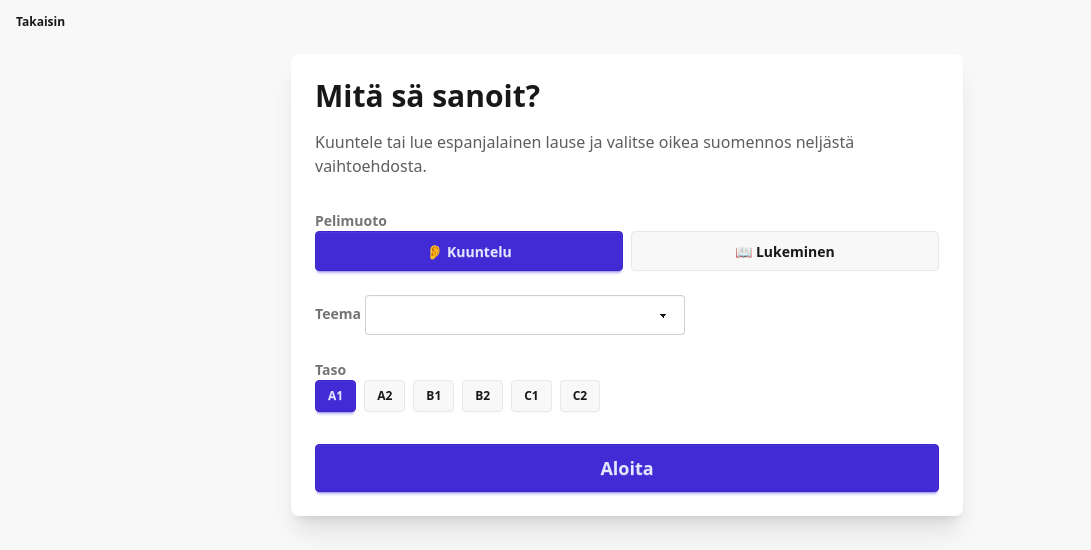
Scenario: Mitä sä sanoit Page › renders playing state with sentence display and answer options
The image size is (1091, 550).
// Click start button
Click the button "Aloita" at [627, 468], box [315,444,939,492]
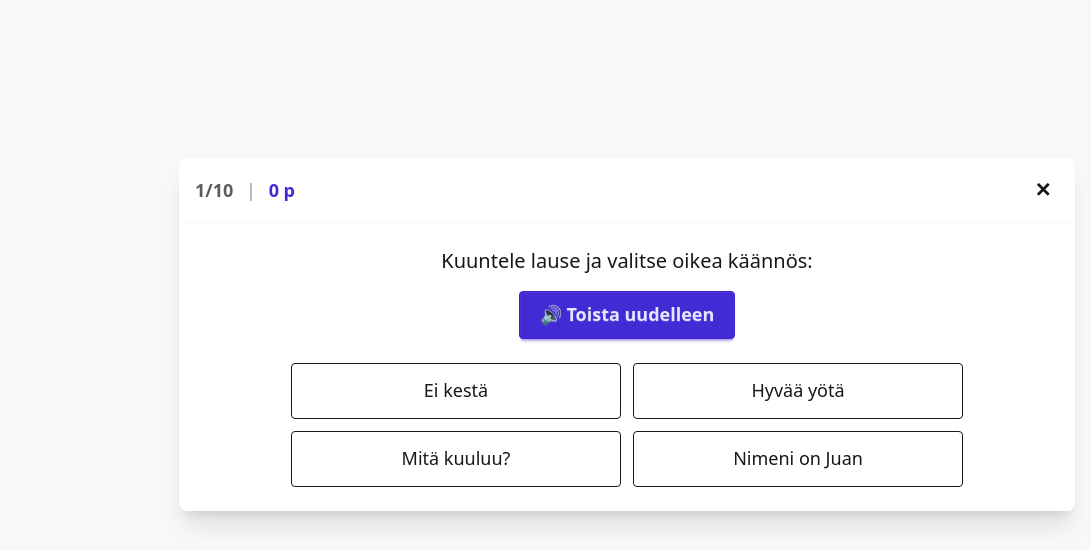
Result: the button "🔊 Toista uudelleen" is shown at [519,290,735,338]
